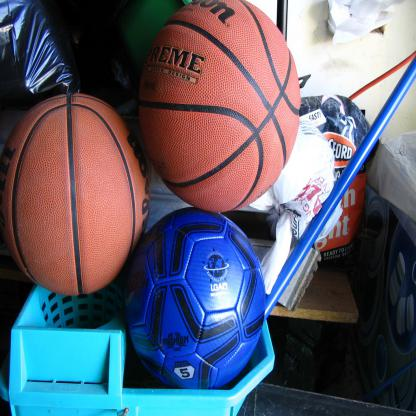Ball: (138, 0, 300, 214), (0, 92, 149, 296), (121, 207, 266, 388)
